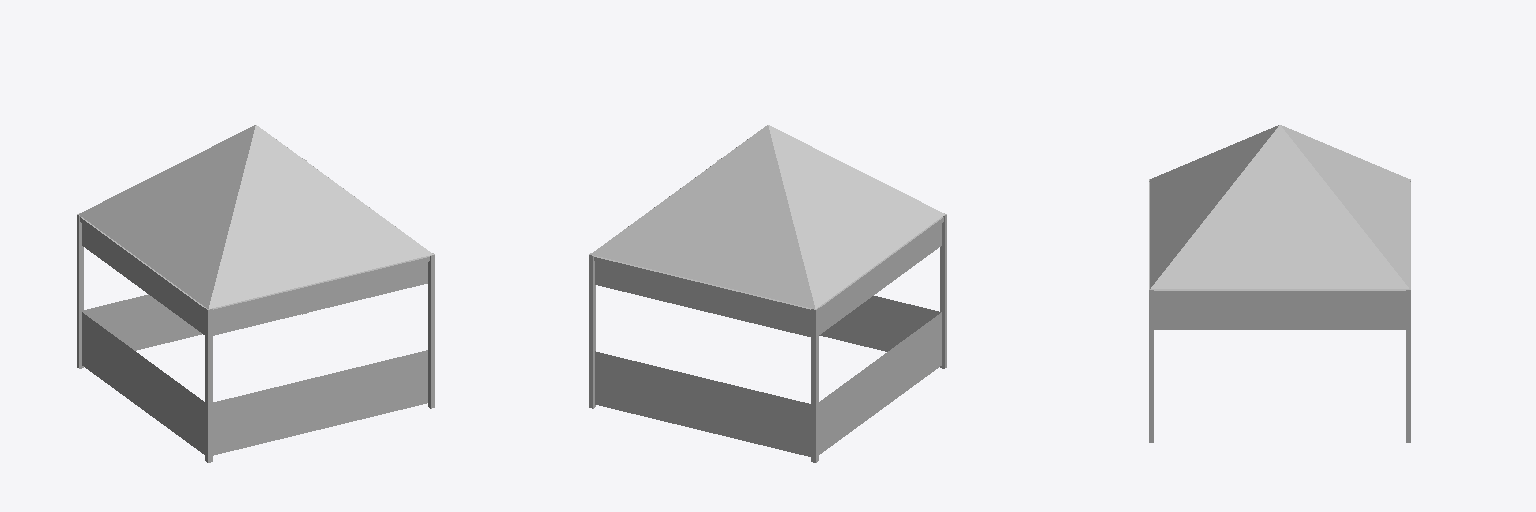
The model's file is tent.obj.
3 views of the same model, side by side, from view 1: azimuth 30°, elevation 25°; view 2: azimuth 150°, elevation 25°; view 3: azimuth 270°, elevation 25° (orthographic).
Visible parts, largest first — view 1: Canpoy_2_Mesh_170; view 2: Canpoy_2_Mesh_170; view 3: Canpoy_2_Mesh_170.
Part boxes in pixels (x1,y1,x2,y2): Canpoy_2_Mesh_170: (77,125,434,462); Canpoy_2_Mesh_170: (589,125,946,462); Canpoy_2_Mesh_170: (1149,125,1410,442).
Bounding box in the file's own units: 3.86 × 4.27 × 3.86.